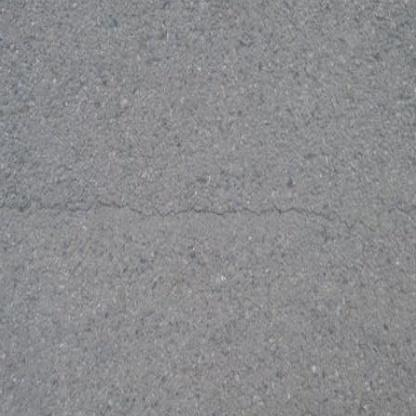Cracks: (0, 158, 416, 287)
